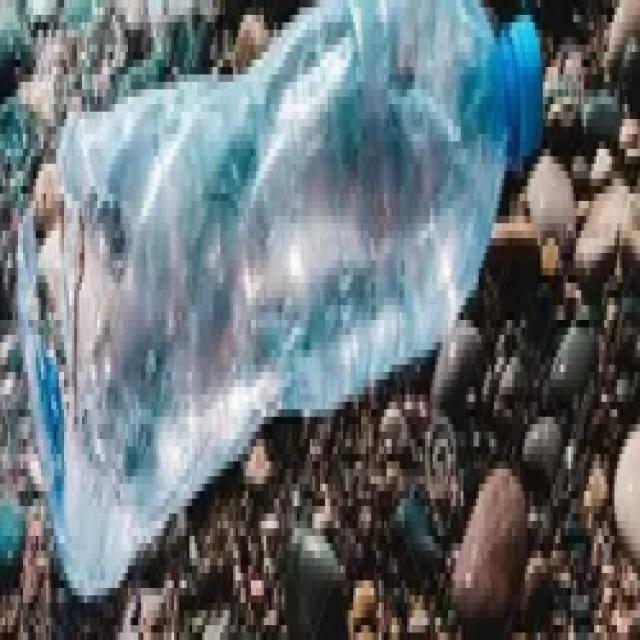Recycle: (18, 0, 545, 588)
